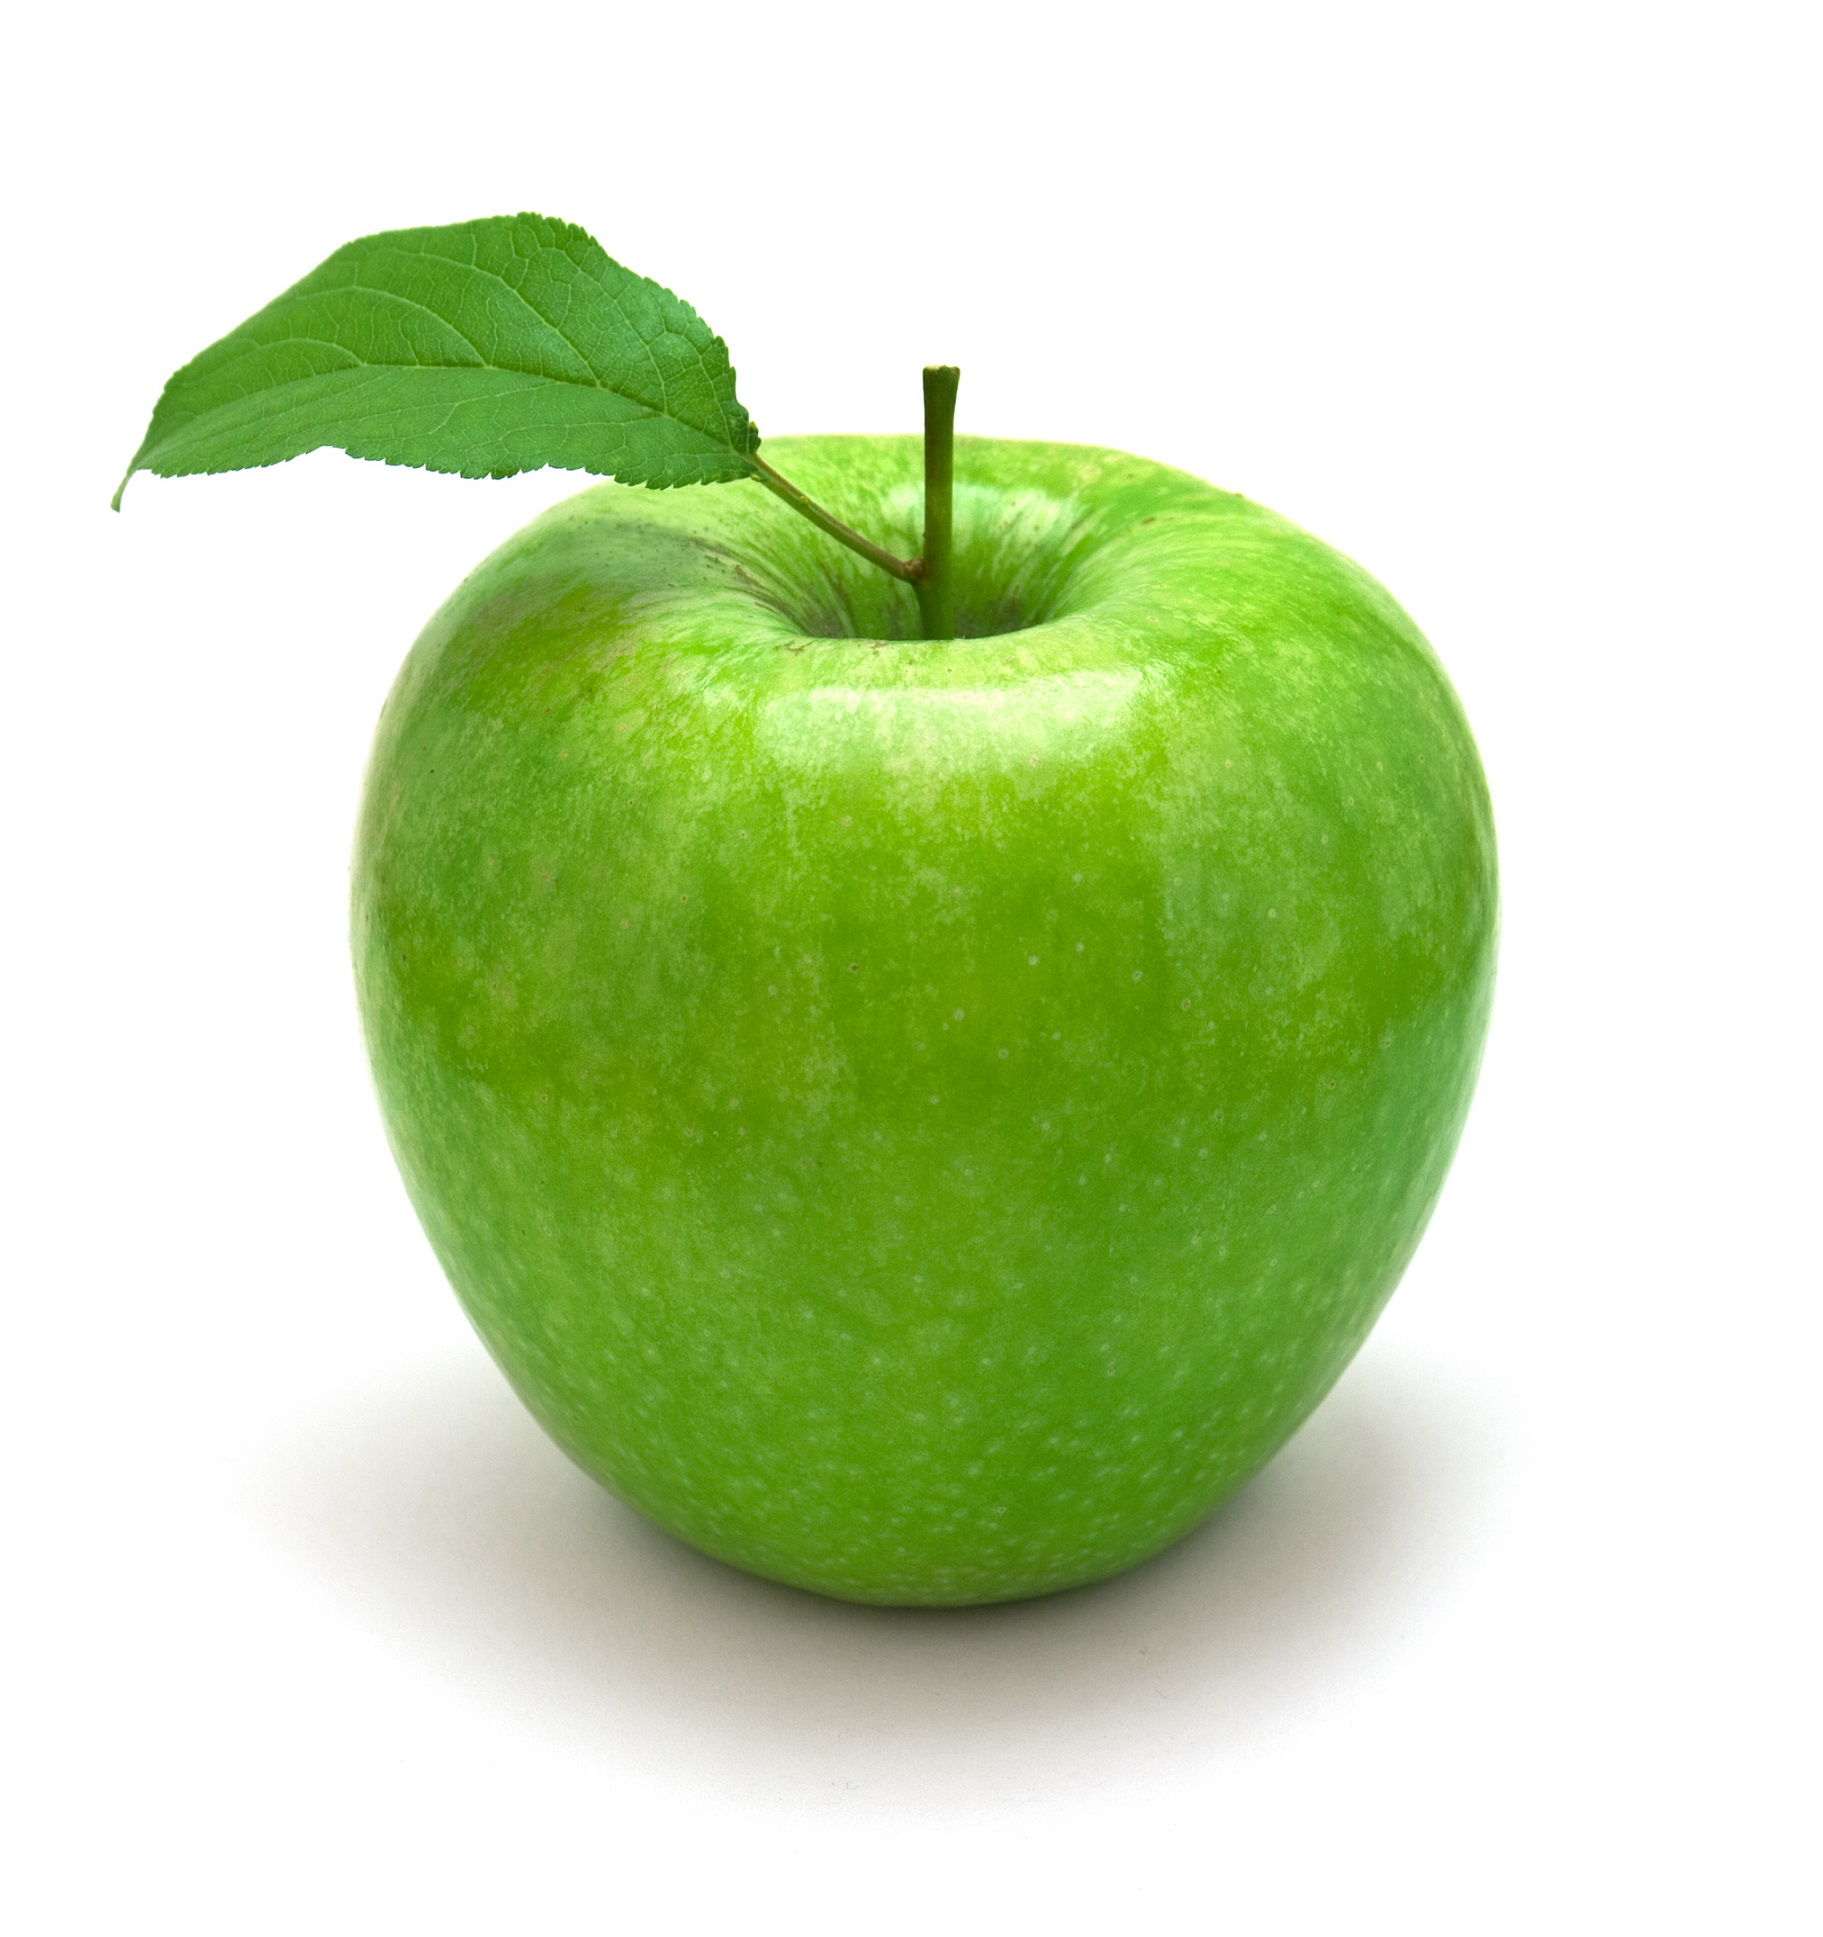apple: (81, 173, 1509, 1639)
